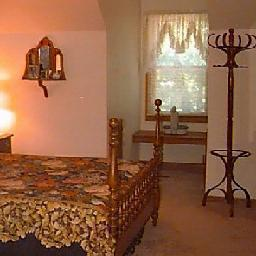Cama: (3, 149, 160, 249)
Otro Obstaculo: (207, 30, 253, 219)
Ventana: (140, 9, 207, 120)
